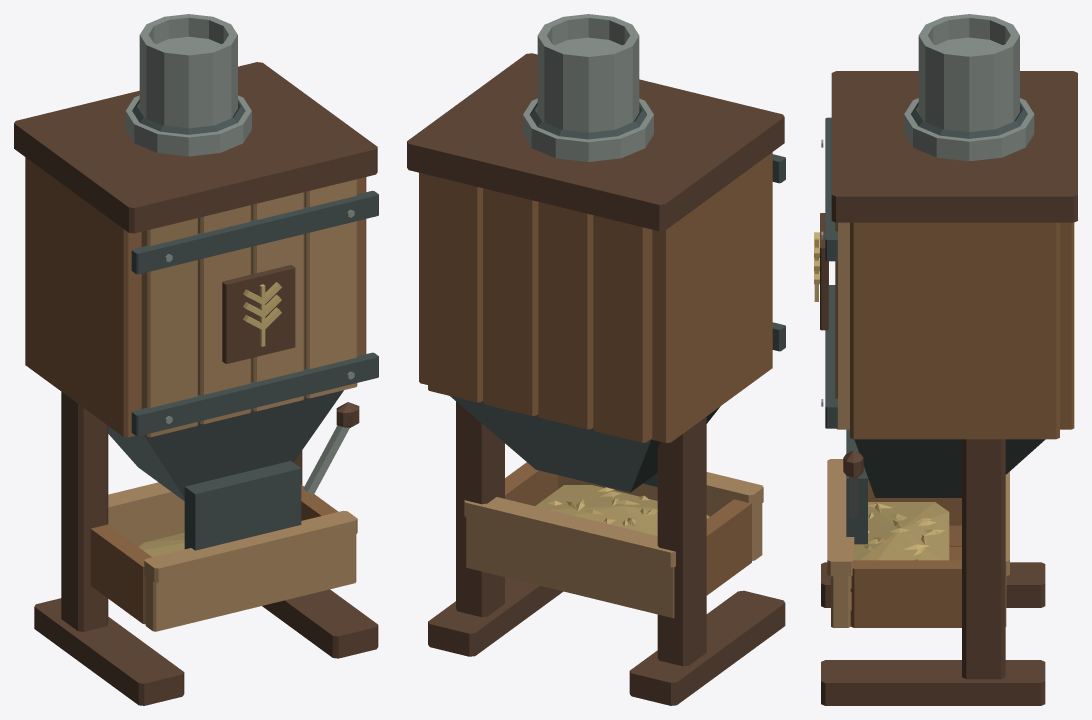
Rendered from hay_hopper.glb.
3 renders of one model, left to right at view 1: azimuth 30°, elevation 25°; view 2: azimuth 150°, elevation 25°; view 3: azimuth 270°, elevation 25°, orthographic. The views are drawn at different scales.
Visible parts, largest first — view 1: geometry; view 2: geometry; view 3: geometry.
Boxes of the visible parts, box(x1,y1,x2,y2) form: geometry: box(14, 14, 378, 705); geometry: box(407, 14, 785, 705); geometry: box(814, 14, 1077, 705).
Bounding box in the file's own units: 0.82 × 1.86 × 0.729.
